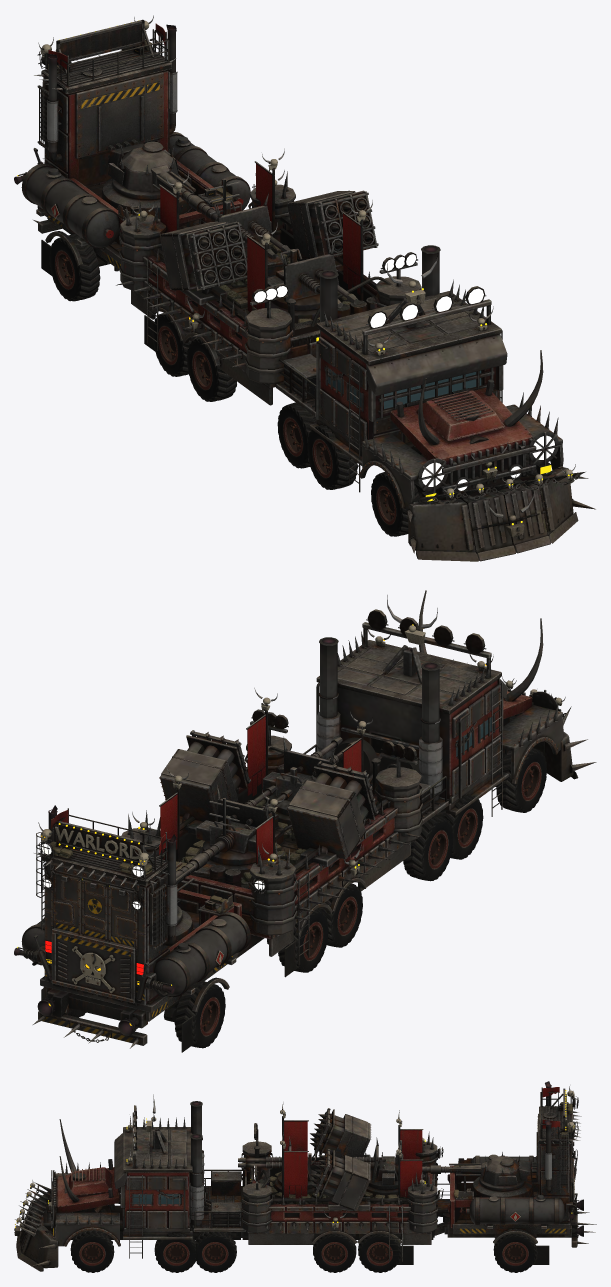
Rendered from boss_warrig.glb.
3 views of the same model, one above another, from view 1: azimuth 30°, elevation 25°; view 2: azimuth 150°, elevation 25°; view 3: azimuth 270°, elevation 25° (orthographic). The views are drawn at different scales.
Visible parts, largest first — view 1: body, part_plow, panel_hood, part_pod_R, part_tank_R, part_pod_L, part_turret_main, part_turret_1, panel_fender_R, panel_armor_roof, wheel_T2R, panel_grille (+15 smaller); view 2: body, part_pod_R, ramp_rear, part_pod_L, part_tank_R, part_turret_2, panel_armor_roof, panel_fender_R, part_stack_R, wheel_RR, panel_armor_cab_R, wheel_T2R (+14 smaller); view 3: body, part_plow, part_tank_L, part_pod_L, part_turret_main, panel_hood, part_pod_R, panel_armor_cab_L, panel_fender_L, wheel_FL, wheel_RL, panel_armor_roof (+12 smaller).
Boxes of the visible parts, left/top/right/bottom form: body: left=14, top=15, right=561, bottom=501; part_plow: left=406, top=464, right=595, bottom=561; panel_hood: left=390, top=387, right=532, bottom=465; part_pod_R: left=159, top=221, right=247, bottom=300; part_tank_R: left=21, top=163, right=120, bottom=248; part_pod_L: left=287, top=190, right=378, bottom=259; part_turret_main: left=107, top=139, right=222, bottom=221; part_turret_1: left=267, top=240, right=358, bottom=311; panel_fender_R: left=359, top=431, right=427, bottom=509; panel_armor_roof: left=333, top=297, right=480, bottom=352; wheel_T2R: left=49, top=234, right=100, bottom=301; panel_grille: left=439, top=438, right=536, bottom=494; body: left=14, top=590, right=561, bottom=1052; part_pod_R: left=287, top=761, right=378, bottom=867; ramp_rear: left=33, top=927, right=149, bottom=1005; part_pod_L: left=159, top=730, right=251, bottom=821; part_tank_R: left=153, top=912, right=250, bottom=997; part_turret_2: left=196, top=784, right=292, bottom=865; panel_armor_roof: left=337, top=647, right=481, bottom=704; panel_fender_R: left=499, top=704, right=563, bottom=784; part_stack_R: left=418, top=662, right=442, bottom=801; wheel_RR: left=403, top=815, right=453, bottom=881; panel_armor_cab_R: left=452, top=684, right=500, bottom=796; wheel_T2R: left=174, top=981, right=225, bottom=1048; body: left=43, top=1081, right=596, bottom=1264; part_plow: left=14, top=1180, right=72, bottom=1271; part_tank_L: left=466, top=1195, right=564, bottom=1228; part_pod_L: left=310, top=1149, right=370, bottom=1214; part_turret_main: left=395, top=1152, right=536, bottom=1191; panel_hood: left=53, top=1167, right=120, bottom=1212; part_pod_R: left=310, top=1108, right=370, bottom=1158; panel_armor_cab_L: left=126, top=1176, right=187, bottom=1228; panel_fender_L: left=54, top=1212, right=120, bottom=1246; wheel_FL: left=70, top=1230, right=114, bottom=1272; wheel_RL: left=195, top=1232, right=236, bottom=1272; panel_armor_roof: left=136, top=1130, right=186, bottom=1165.
Bounding box in the file's own units: 9.34 × 10.19 × 36.1.
Materials: 13 (9 with a texture image).
